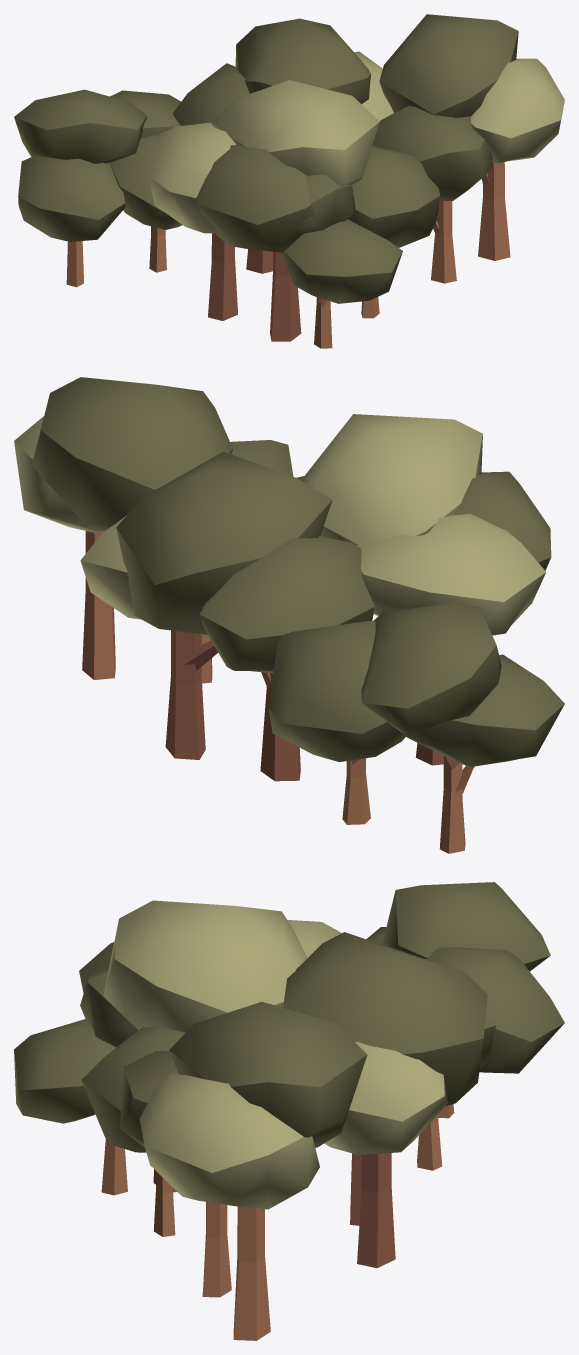
The model's file is tree_lot2.fbx.
3 views of the same model, one above another, from view 1: azimuth 30°, elevation 25°; view 2: azimuth 150°, elevation 25°; view 3: azimuth 270°, elevation 25° (orthographic). The views are drawn at different scales.
Parts seen in each view (by area): view 1: tree_lot2; view 2: tree_lot2; view 3: tree_lot2.
Part boxes in pixels (x1,y1,x2,y2): tree_lot2: (14, 14, 564, 348); tree_lot2: (14, 377, 564, 853); tree_lot2: (14, 882, 564, 1340).
Size of the model in its own units: 14.32 by 11.45 by 6.94.
